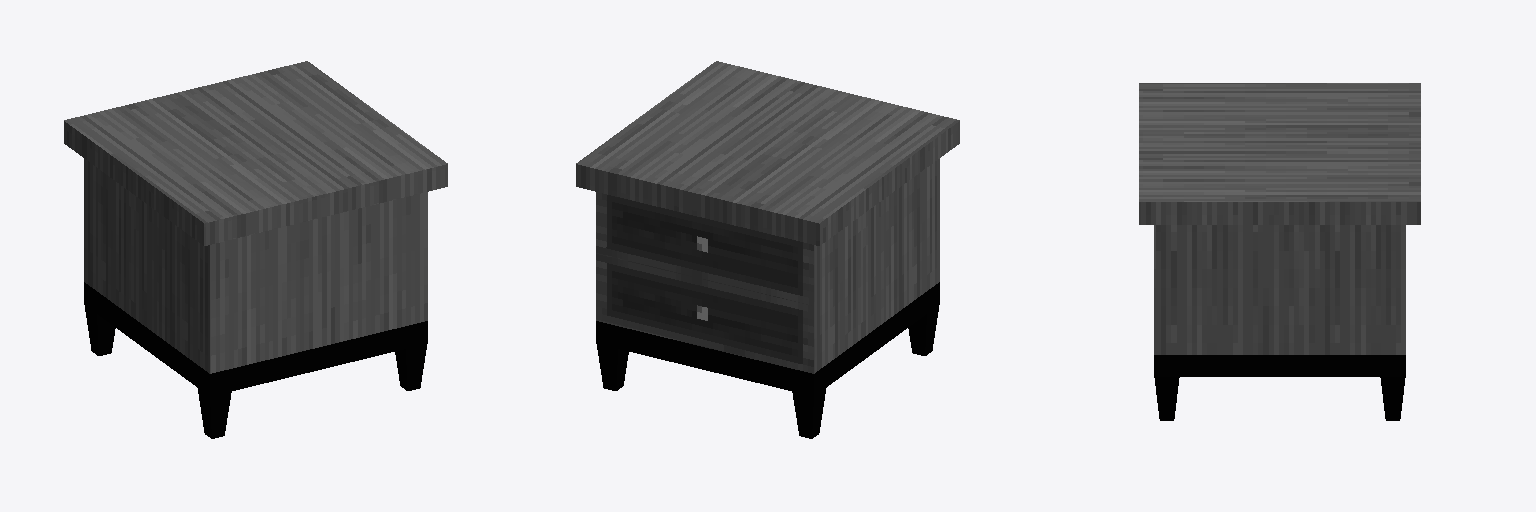
3 views of the same model, side by side, from view 1: azimuth 30°, elevation 25°; view 2: azimuth 150°, elevation 25°; view 3: azimuth 270°, elevation 25° (orthographic).
Visible parts, largest first — view 1: nightstand_1; view 2: nightstand_1; view 3: nightstand_1.
Part boxes in pixels (x1,y1,x2,y2): nightstand_1: (64,61,447,438); nightstand_1: (576,61,959,438); nightstand_1: (1139,83,1420,420).
Size of the model in its own units: 2.24 by 2 by 2.24.
3 materials, 2 textured.